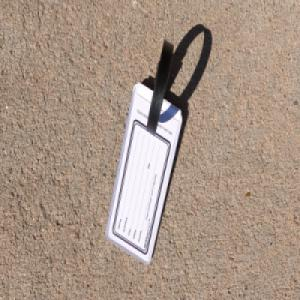LuggageTag: (104, 37, 183, 268)
